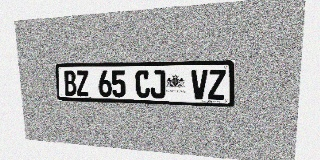5: (111, 70, 126, 97)
6: (98, 70, 112, 97)
B: (63, 71, 77, 96)
C: (135, 70, 150, 98)
J: (150, 70, 165, 98)
V: (191, 70, 208, 100)
Z: (208, 69, 226, 100), (76, 71, 89, 96)
